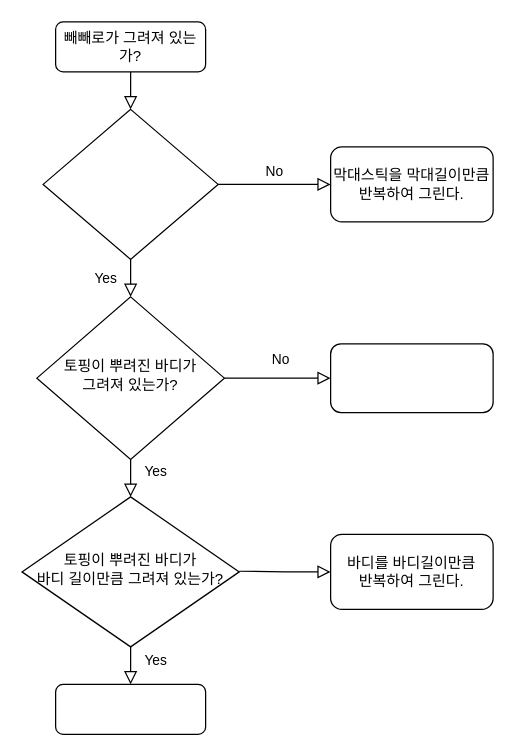
Some shapes in this 515 by 756 pixel diagram are drawn without their labels. Here are the shapes that lost their labels. From the top down, the centre of each, then its label:
At [130,183]: "막대스틱이 그려져 있는가?".
At [411,377]: "토핑을 뿌린 바디 한줄을 그린다.".
At [130,708]: "빼빼로 완성!".
